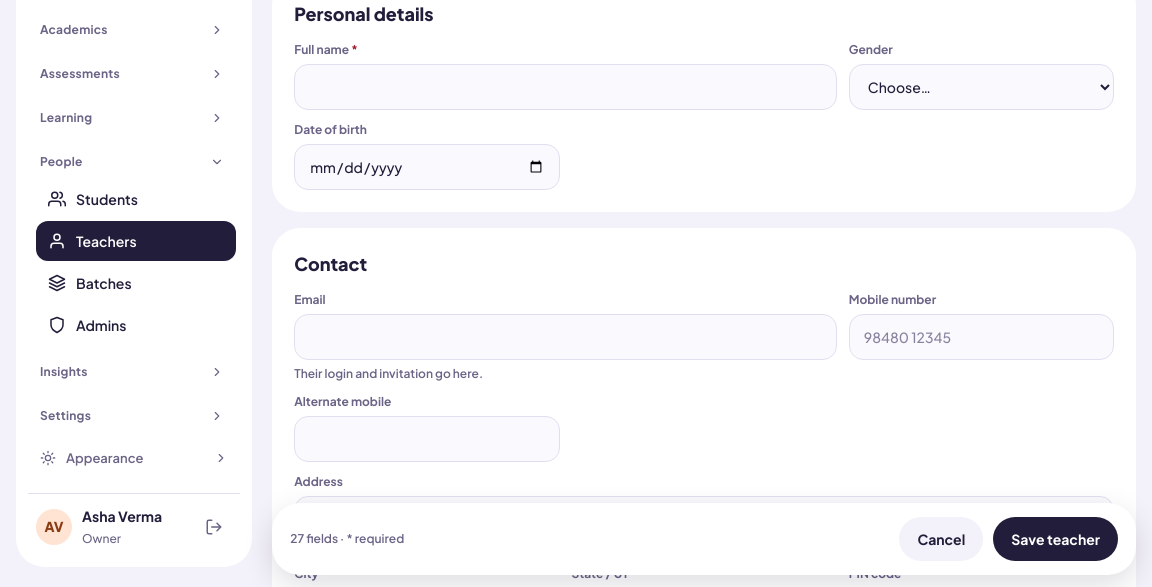
it: Teachers page › an invitation needs an e-mail address (checked before sending)
Type "No Mail" into the field with test id "teacher-form-full-name-input" at (566, 87), box [294,64,837,110]
(page scrolled)
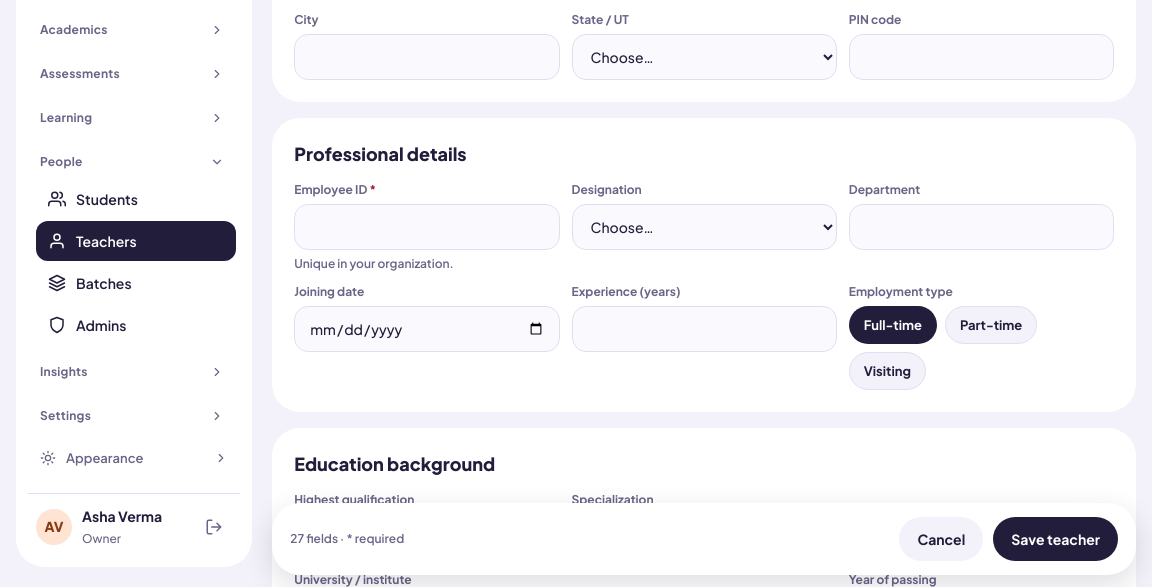
Type "EMP-1" into the field with test id "teacher-form-employee-id-input" at (427, 227), box [294,204,560,250]
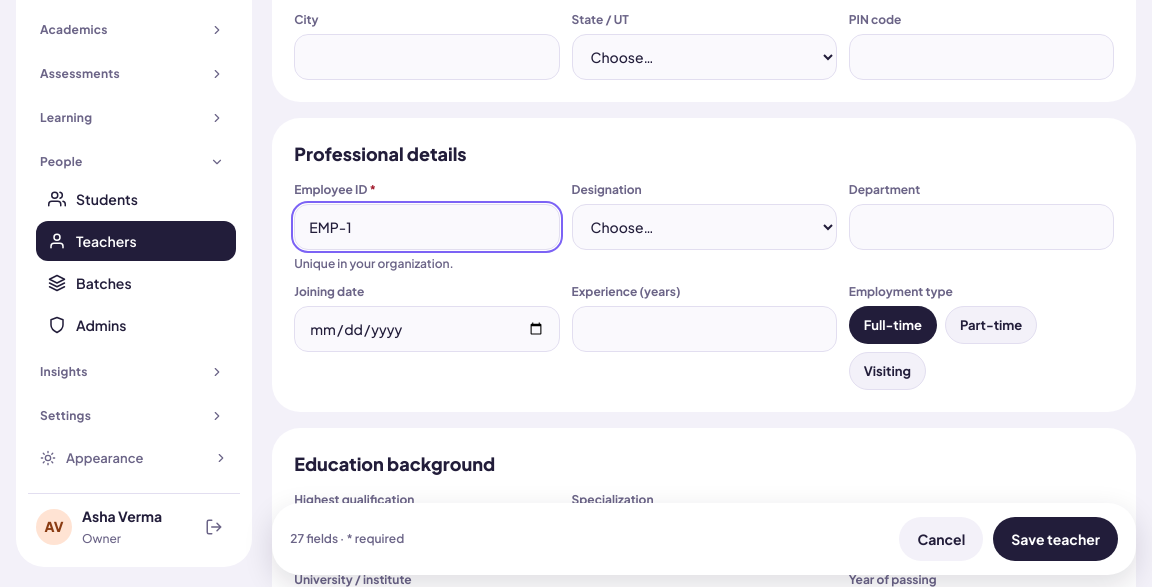
Click the button with test id "teacher-form-save-btn" at (1056, 539), box [993,517,1118,561]
(page scrolled)
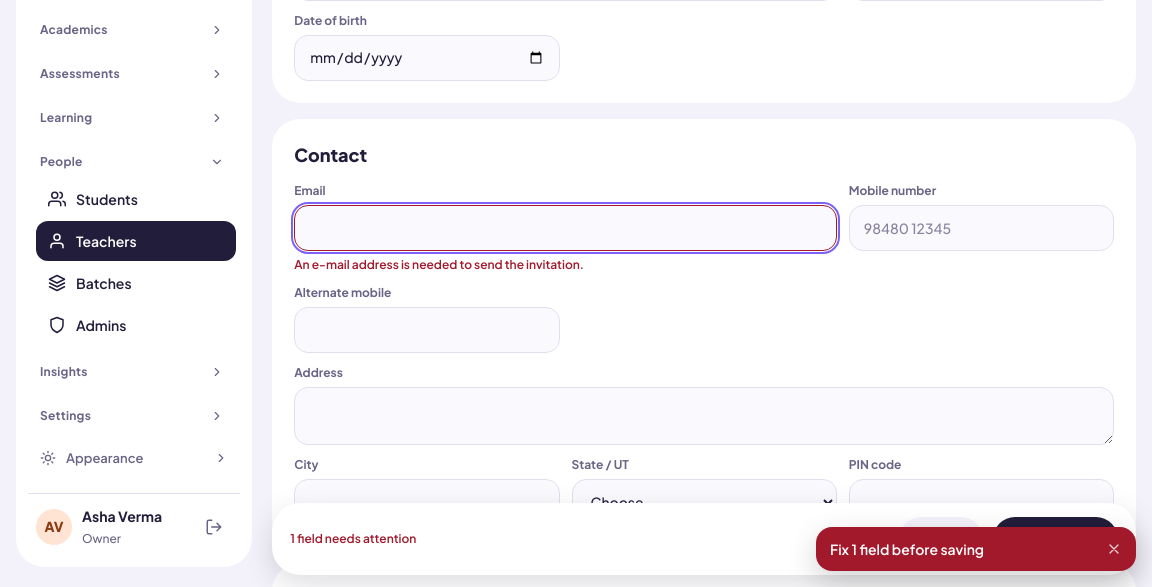
Now the message with test id "teacher-form-email-error" shows "needed to send the invitation", box [294,257,584,272]
